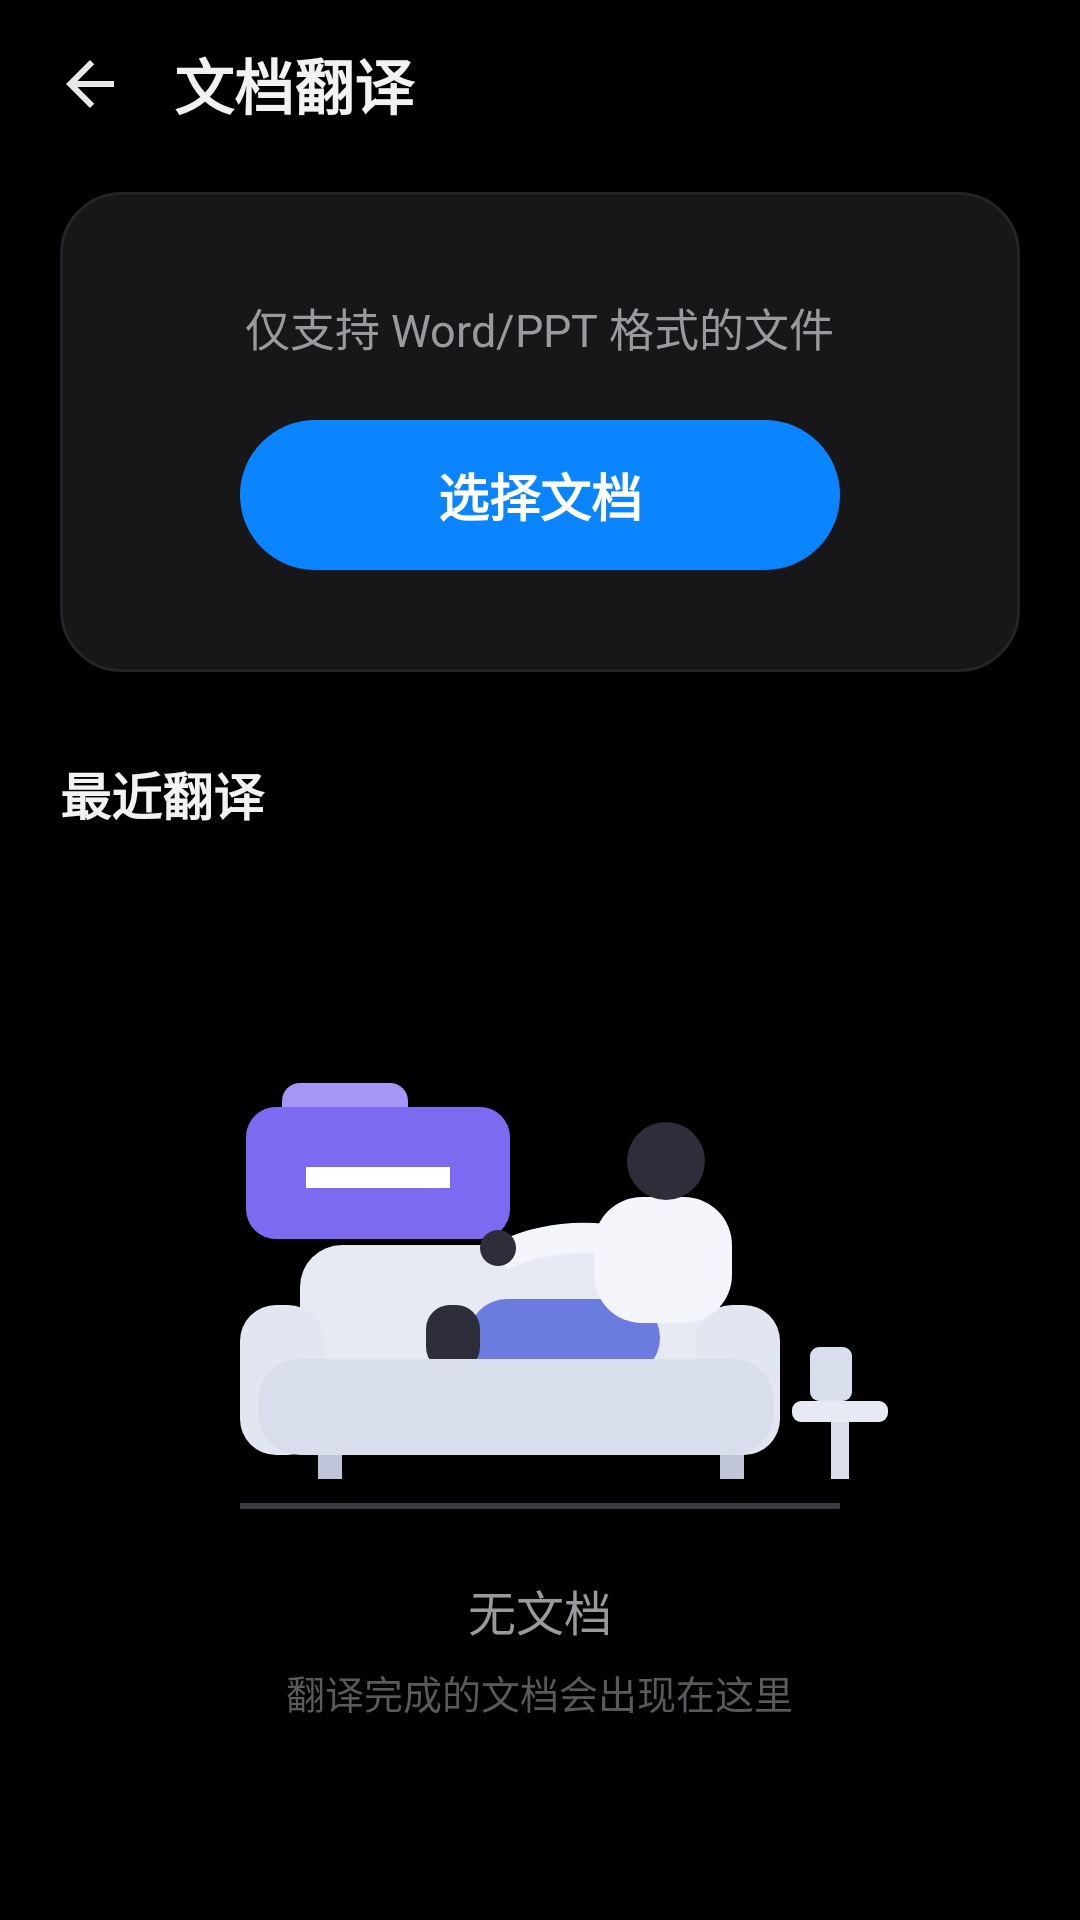

Locate icon controls on the screen. Image size 1080 x 1920, boxes as (x1=x1, y1=y1, x2=x2, y2=y2).
返回: (x1=66, y1=60, x2=114, y2=108)
